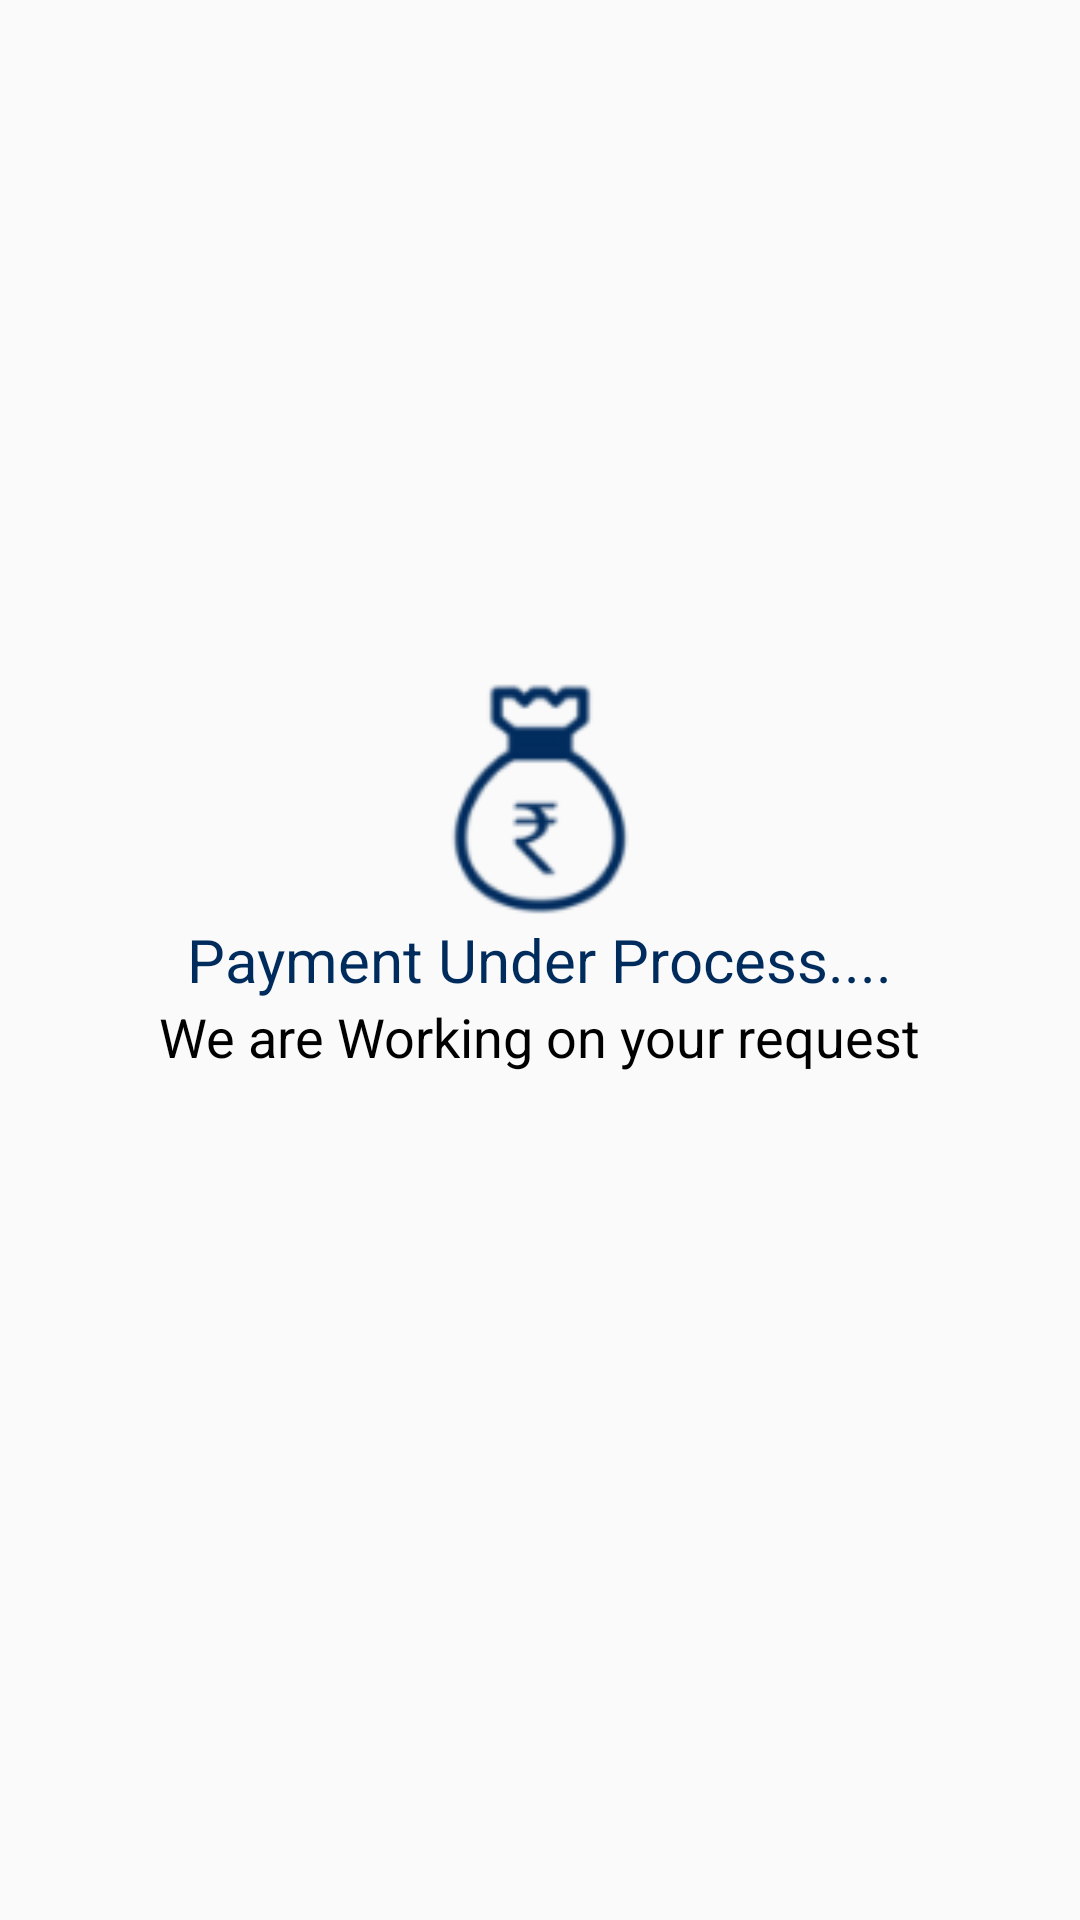

Screen size 1080*1920. Icon name, then its box in pixels as {"x1": x1, "y1": y1, "x2": x2, "y2": y2}:
tour budget: {"x1": 453, "y1": 685, "x2": 628, "y2": 914}
